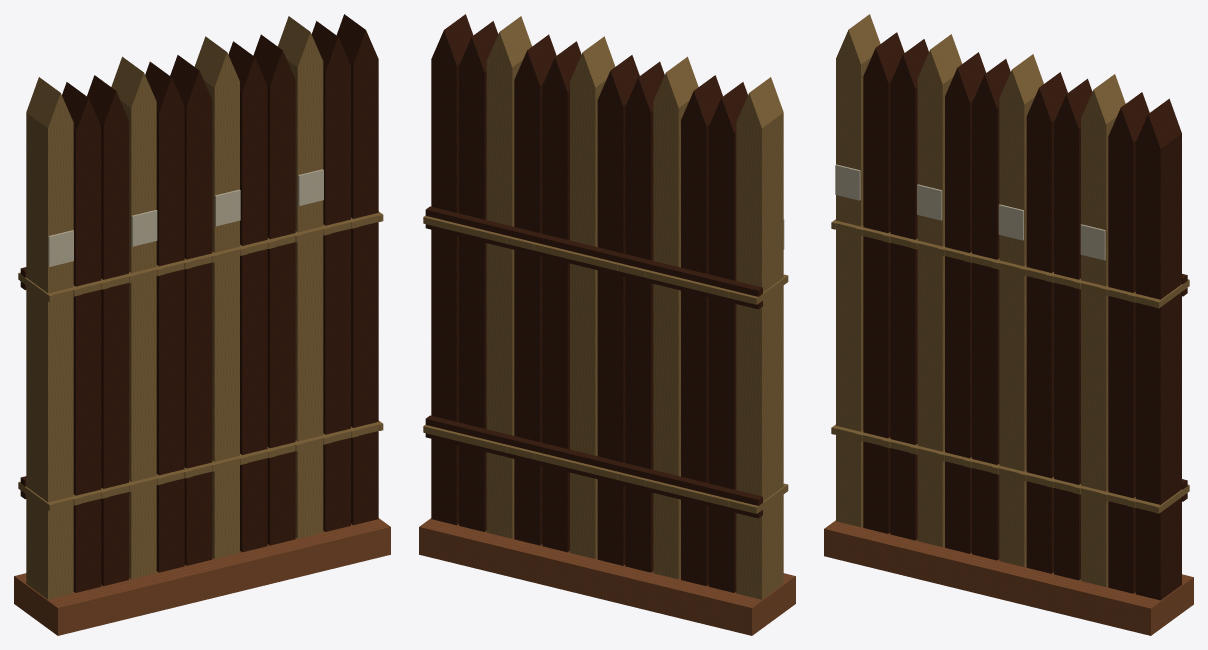
Rendered from Berber_Palisade_Age1_straight_3m.fbx.
3 renders of one model, left to right at view 1: azimuth 30°, elevation 25°; view 2: azimuth 150°, elevation 25°; view 3: azimuth 330°, elevation 25°, orthographic.
Parts seen in each view (by area): view 1: palm_split_post.008, palm_split_post.005, palm_split_post.011, palm_split_post.006, palm_split_post.004, earth_seat.001, palm_split_post.013, palm_split_post.007, palm_split_post.010, front_lashing.001, neutral_owner_painted_stripe.001, lashing_side.001; view 2: palm_split_post.008, palm_split_post.005, palm_split_post.006, palm_split_post.011, palm_split_post.004, earth_seat.001, palm_split_post.013, palm_split_post.007, palm_split_post.010, continuous_rear_tie.001, back_lashing.001, lashing_side.001; view 3: palm_split_post.011, palm_split_post.006, palm_split_post.005, palm_split_post.008, earth_seat.001, palm_split_post.004, palm_split_post.013, palm_split_post.007, palm_split_post.010, front_lashing.001, neutral_owner_painted_stripe.001, lashing_side.001.
Boxes of the visible parts, box(x1,y1,x2,y2) form: palm_split_post.008: box(145, 34, 295, 572); palm_split_post.005: box(62, 55, 212, 592); palm_split_post.011: box(228, 14, 378, 552); palm_split_post.006: box(87, 21, 350, 586); palm_split_post.004: box(26, 77, 73, 599); earth_seat.001: box(14, 518, 390, 635); palm_split_post.013: box(278, 16, 323, 538); palm_split_post.007: box(111, 56, 156, 579); palm_split_post.010: box(194, 36, 239, 558); front_lashing.001: box(48, 212, 381, 509); neutral_owner_painted_stripe.001: box(48, 169, 323, 266); lashing_side.001: box(18, 211, 383, 511); palm_split_post.008: box(514, 34, 664, 572); palm_split_post.005: box(597, 55, 747, 592); palm_split_post.006: box(459, 21, 722, 586); palm_split_post.011: box(431, 14, 581, 552); palm_split_post.004: box(736, 77, 783, 599); earth_seat.001: box(419, 518, 795, 635); palm_split_post.013: box(486, 16, 531, 538); palm_split_post.007: box(653, 56, 698, 579); palm_split_post.010: box(570, 36, 615, 558); continuous_rear_tie.001: box(425, 206, 762, 518); back_lashing.001: box(424, 216, 757, 513); lashing_side.001: box(423, 215, 788, 513); palm_split_post.011: box(1026, 72, 1181, 600); palm_split_post.006: box(890, 39, 1149, 593); palm_split_post.005: box(863, 32, 1010, 560); palm_split_post.008: box(945, 52, 1092, 580); earth_seat.001: box(824, 520, 1193, 635); palm_split_post.004: box(836, 14, 880, 527); palm_split_post.013: box(1081, 74, 1125, 586); palm_split_post.007: box(917, 34, 962, 547); palm_split_post.010: box(999, 54, 1043, 567); front_lashing.001: box(834, 221, 1157, 512); neutral_owner_painted_stripe.001: box(835, 164, 1105, 260); lashing_side.001: box(831, 219, 1189, 513).
Size of the model in its own units: 301 by 458 by 68.29.
Materials: 4 (4 with a texture image).
